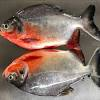Ikan Bawal: (1, 1, 100, 46), (3, 51, 100, 96)
